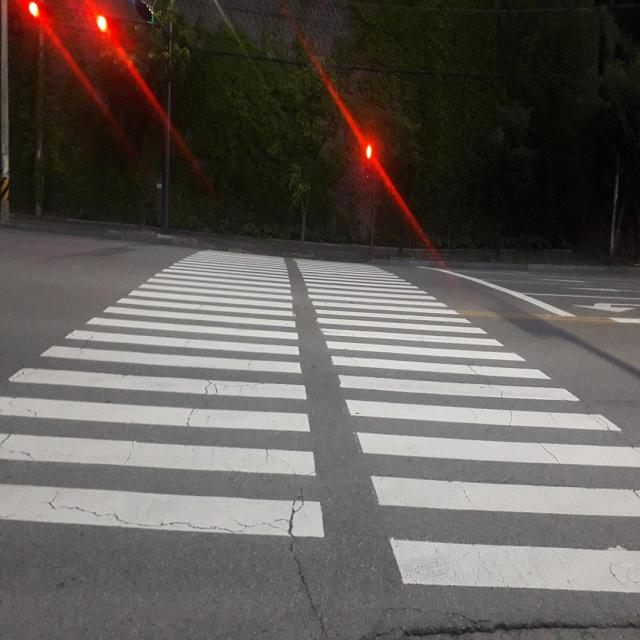횡단보도: (0, 247, 640, 596), (365, 138, 374, 186)
